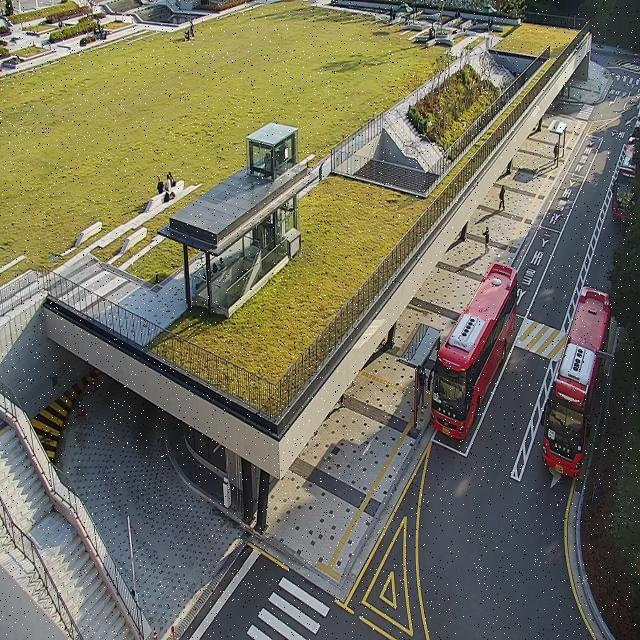queue: (414, 332, 440, 432)
